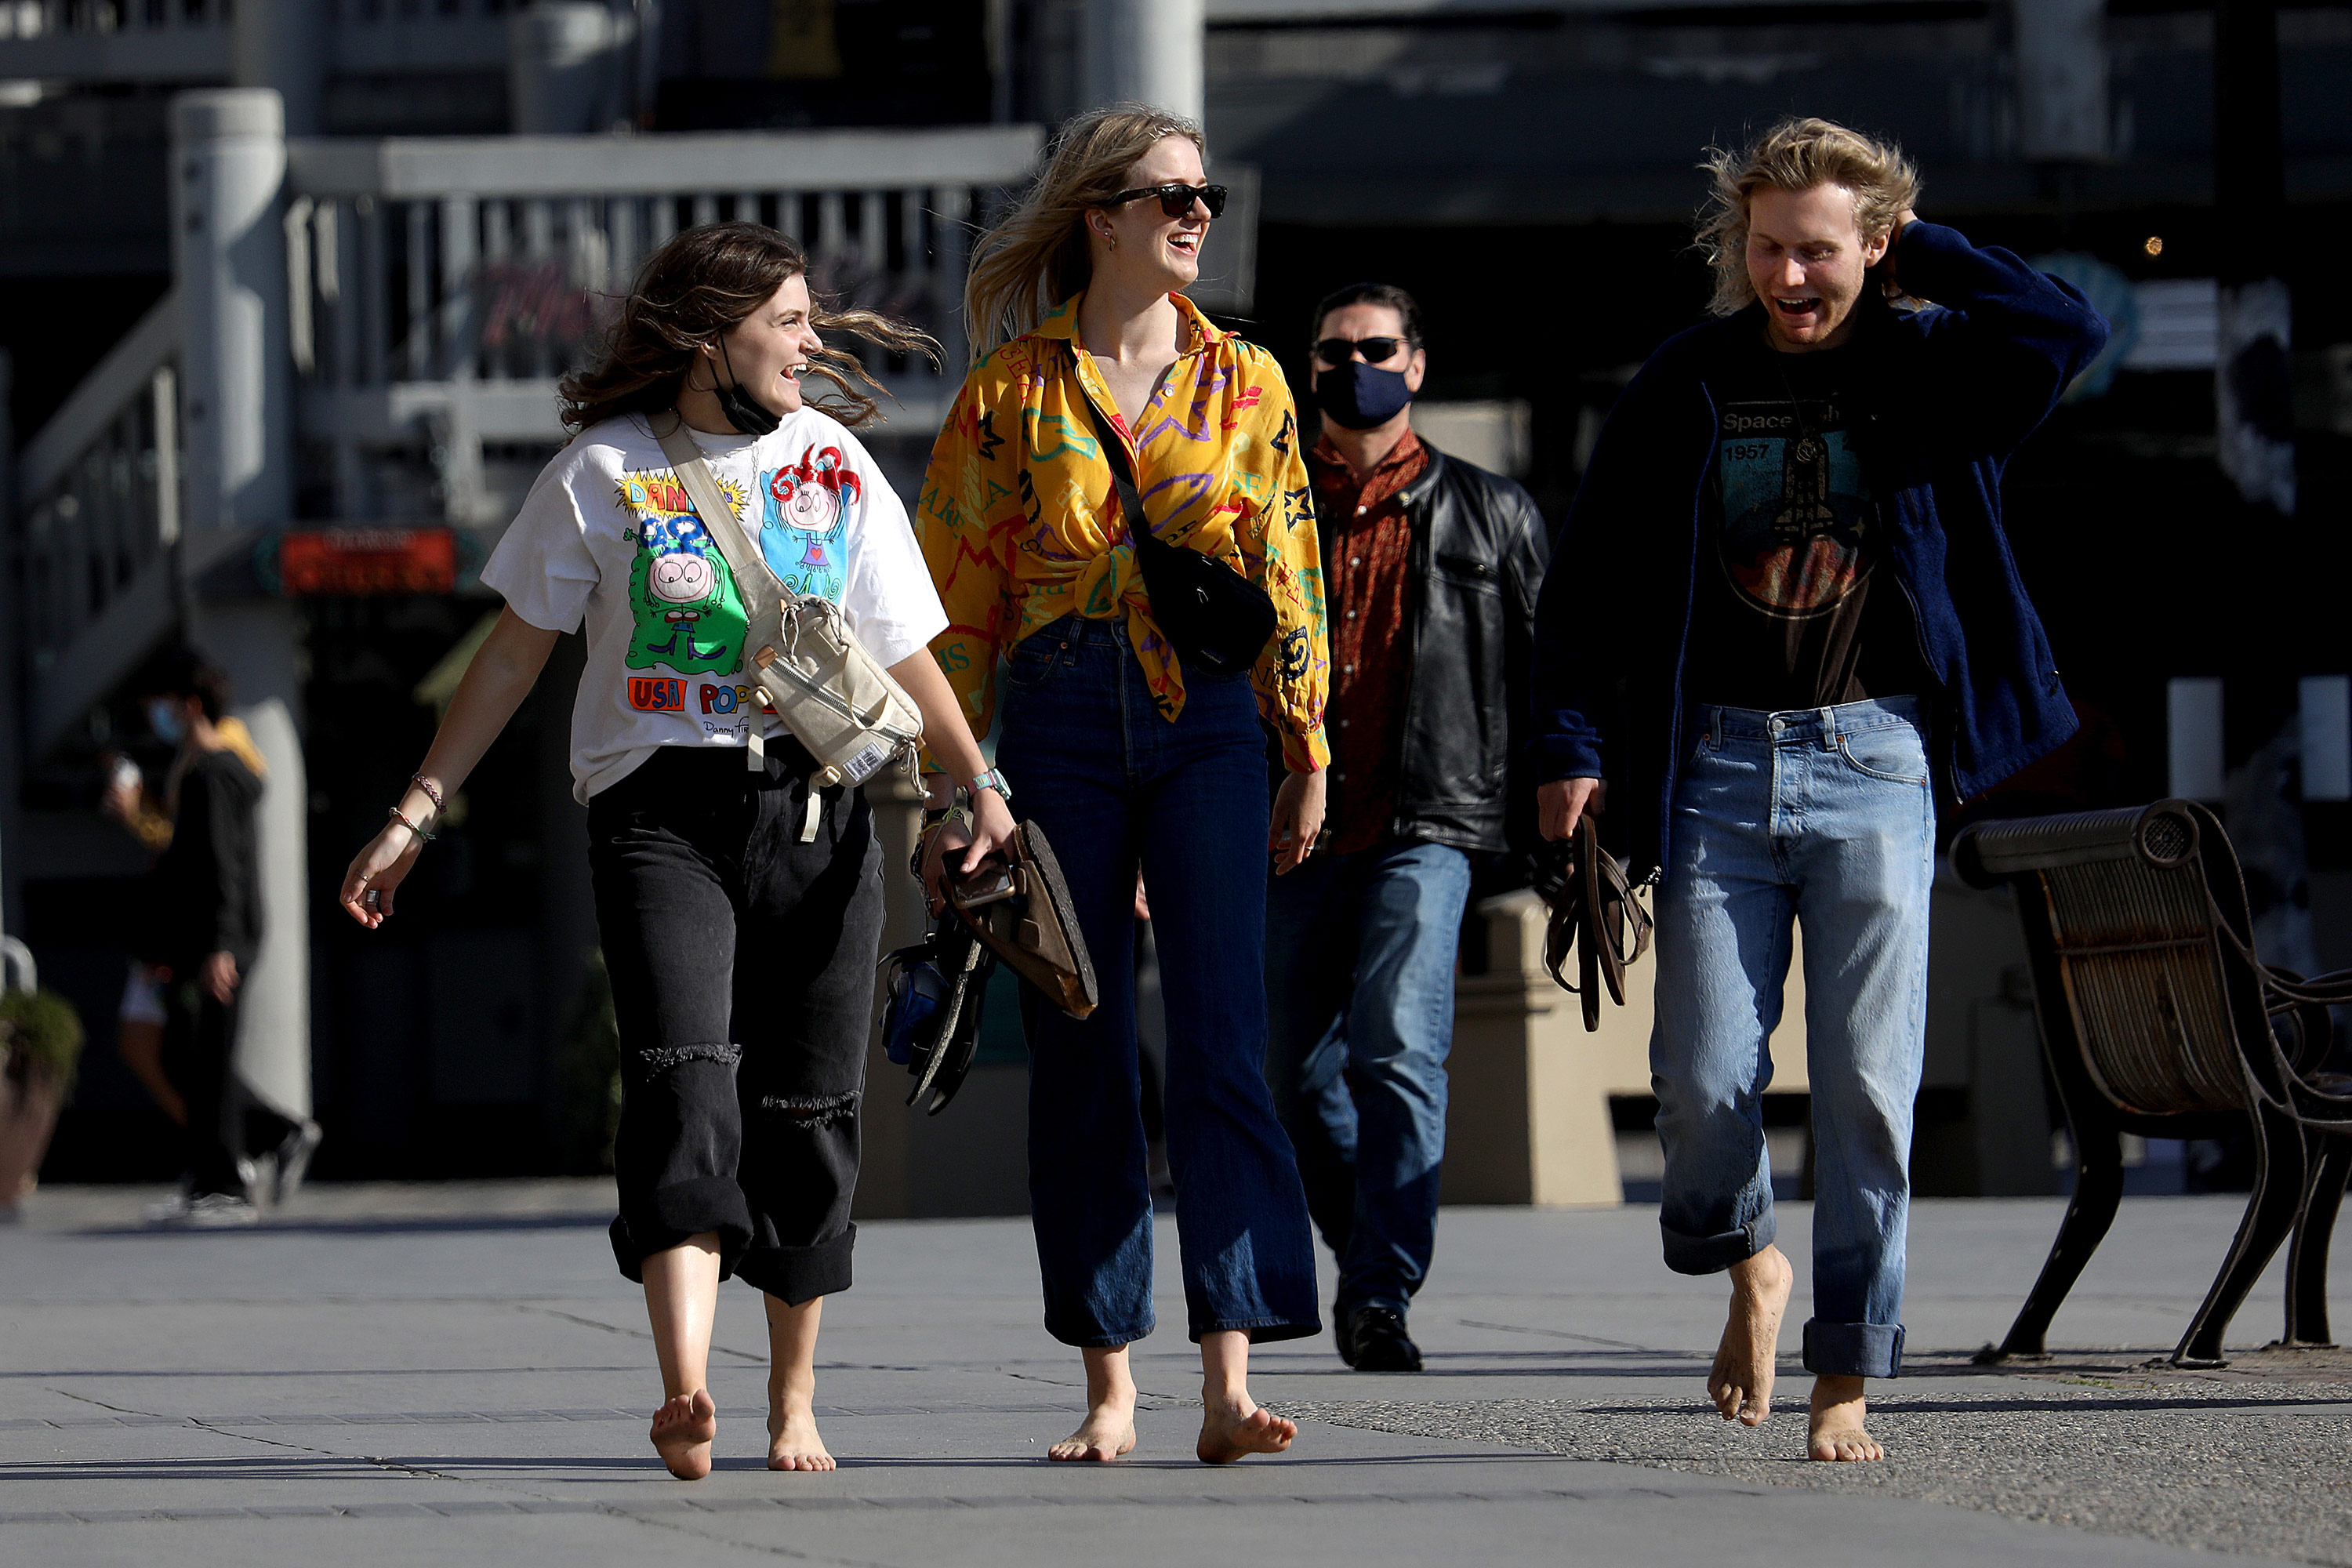person: (1532, 122, 2095, 1458), (421, 223, 989, 1478), (936, 106, 1339, 1461)
